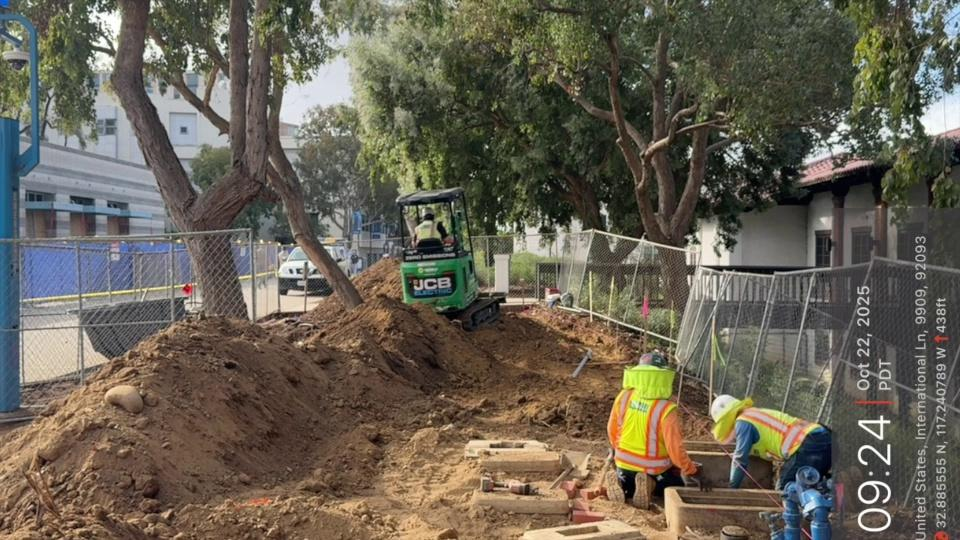Exacavator: (393, 185, 507, 331)
